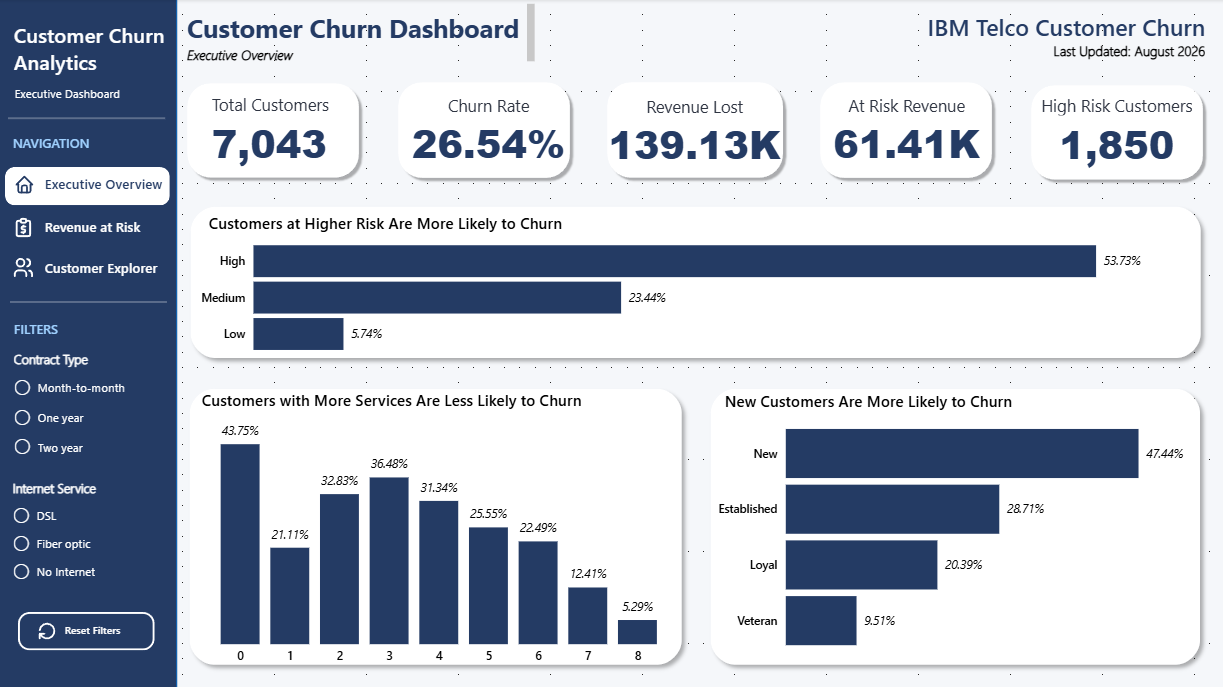

The page's visual inventory and layout, read from the dashboard file:
{"tool":"powerbi","page":{"name":"Executive Overview","canvas":[1280,720],"ordinal":0},"visuals":[{"type":"shape","box":[192,208,1072,176],"z":0},{"type":"shape","box":[0,0,186.9,719.2],"z":1000},{"type":"shape","box":[190.6,397.9,531.5,306.1],"z":2000},{"type":"shape","box":[734.6,397.9,528.7,306.1],"z":3000},{"type":"shape","box":[191.4,81.9,192,111.3],"z":4000},{"type":"cardVisual","fields":{"Data":["Measures Table.TotalCustomersDisplay"]},"box":[193.8,83.8,192.5,108.8],"z":5000},{"type":"shape","box":[1072.1,83.3,192,111.3],"z":6000},{"type":"shape","box":[411.6,80.5,192,112.7],"z":7000},{"type":"shape","box":[628.8,80,196.2,112.5],"z":8000},{"type":"shape","box":[851.9,80.5,192,112.7],"z":9000},{"type":"cardVisual","fields":{"Data":["Measures Table.ChurnRate"]},"box":[383.8,82.5,256.2,111.2],"z":10000},{"type":"cardVisual","fields":{"Data":["Measures Table.RevenueLost"]},"box":[601.2,83.8,252.5,111.2],"z":11000},{"type":"cardVisual","fields":{"Data":["Measures Table.AtRiskRevenue"]},"box":[820,82.5,256.2,111.2],"z":12000},{"type":"cardVisual","fields":{"Data":["Measures Table.HighRiskCustomersDisplay"]},"box":[1056.2,83.8,223.8,110],"z":13000},{"type":"clusteredBarChart","title":"Churn Rate by Risk Segment","fields":{"Category":["telco_customers_clean.Risk_Segment"],"Y":["Measures Table.ChurnRate"]},"box":[206,233.3,1042.9,153.6],"z":14000},{"type":"clusteredBarChart","title":"Churn Rate by Risk Segment","fields":{"Y":["Measures Table.ChurnRate"],"Category":["telco_customers_clean.Tenure_Group"]},"box":[745,417.5,503.8,286.2],"z":15000},{"type":"clusteredColumnChart","title":"Churn Rate by Risk Segment","fields":{"Category":["telco_customers_clean.Service_Count_Label"],"Y":["Measures Table.ChurnRate"]},"box":[206.2,426.2,502.5,277.5],"z":16000},{"type":"textbox","box":[215.5,217.9,448.8,42.9],"z":17000},{"type":"textbox","box":[753.8,403.8,495,47.5],"z":18000},{"type":"textbox","box":[207.5,402.5,411.2,32.5],"z":19000},{"type":"textbox","box":[192.5,0,372.5,71.2],"z":20000},{"type":"textbox","box":[948.8,7.5,316.2,63.8],"z":21000},{"type":"textbox","box":[8,15,172,76],"z":22000},{"type":"shape","box":[10,118,164,13],"z":23000},{"type":"listSlicer","title":"Contract Type","fields":{"Values":["telco_customers_clean.Contract"]},"box":[11.2,367.5,160,120],"z":24000},{"type":"listSlicer","title":"Internet Service","fields":{"Values":["telco_customers_clean.InternetService"]},"box":[10.9,501.8,160,114.5],"z":25000},{"type":"actionButton","box":[15.7,432.1,33.6,32.1],"z":26000},{"type":"shape","box":[7.8,175.4,172,40],"z":27000},{"type":"textbox","box":[10,137,164,35],"z":28000},{"type":"textbox","box":[43.5,223.5,140,31.1],"z":29000},{"type":"textbox","box":[43.3,178.5,136.7,32.2],"z":30000},{"type":"textbox","box":[9,81,164,32],"z":31000},{"type":"textbox","box":[44,266,140,31],"z":32000},{"type":"image","box":[14,183,28,22],"z":33000},{"type":"image","box":[13,226,28,24],"z":34000},{"type":"image","box":[13,268,28,24],"z":35000},{"type":"shape","box":[12.5,310,163.8,12.5],"z":36000},{"type":"textbox","box":[11.2,331.2,162.5,35],"z":37000},{"type":"actionButton","box":[8.3,219,165.5,39.3],"z":37500},{"type":"image","box":[40,647.5,22.5,22.5],"z":38000},{"type":"textbox","box":[64.3,643.6,80,30.8],"z":40000},{"type":"actionButton","box":[21.2,640,142.5,40],"z":41000},{"type":"actionButton","box":[10.7,260.7,164.3,40.5],"z":42000}]}

Visuals, with their boxes on the page's 1280x720 design canvas (x1, y1, x2, y2). These are canvas units, not pixel positions in the 1223x687 screenshot, which may show the page scaled, cropped or inside an application window:
shape: <box>192,208,1264,384</box>
shape: <box>0,0,187,719</box>
shape: <box>191,398,722,704</box>
shape: <box>735,398,1263,704</box>
shape: <box>191,82,383,193</box>
cardVisual - Measures Table.TotalCustomersDisplay: <box>194,84,386,193</box>
shape: <box>1072,83,1264,195</box>
shape: <box>412,80,604,193</box>
shape: <box>629,80,825,192</box>
shape: <box>852,80,1044,193</box>
cardVisual - Measures Table.ChurnRate: <box>384,82,640,194</box>
cardVisual - Measures Table.RevenueLost: <box>601,84,854,195</box>
cardVisual - Measures Table.AtRiskRevenue: <box>820,82,1076,194</box>
cardVisual - Measures Table.HighRiskCustomersDisplay: <box>1056,84,1280,194</box>
"Churn Rate by Risk Segment" clusteredBarChart: <box>206,233,1249,387</box>
"Churn Rate by Risk Segment" clusteredBarChart: <box>745,418,1249,704</box>
"Churn Rate by Risk Segment" clusteredColumnChart: <box>206,426,709,704</box>
textbox: <box>216,218,664,261</box>
textbox: <box>754,404,1249,451</box>
textbox: <box>208,402,619,435</box>
textbox: <box>192,0,565,71</box>
textbox: <box>949,8,1265,71</box>
textbox: <box>8,15,180,91</box>
shape: <box>10,118,174,131</box>
"Contract Type" listSlicer: <box>11,368,171,488</box>
"Internet Service" listSlicer: <box>11,502,171,616</box>
actionButton: <box>16,432,49,464</box>
shape: <box>8,175,180,215</box>
textbox: <box>10,137,174,172</box>
textbox: <box>44,224,184,255</box>
textbox: <box>43,178,180,211</box>
textbox: <box>9,81,173,113</box>
textbox: <box>44,266,184,297</box>
image: <box>14,183,42,205</box>
image: <box>13,226,41,250</box>
image: <box>13,268,41,292</box>
shape: <box>12,310,176,322</box>
textbox: <box>11,331,174,366</box>
actionButton: <box>8,219,174,258</box>
image: <box>40,648,62,670</box>
textbox: <box>64,644,144,674</box>
actionButton: <box>21,640,164,680</box>
actionButton: <box>11,261,175,301</box>
